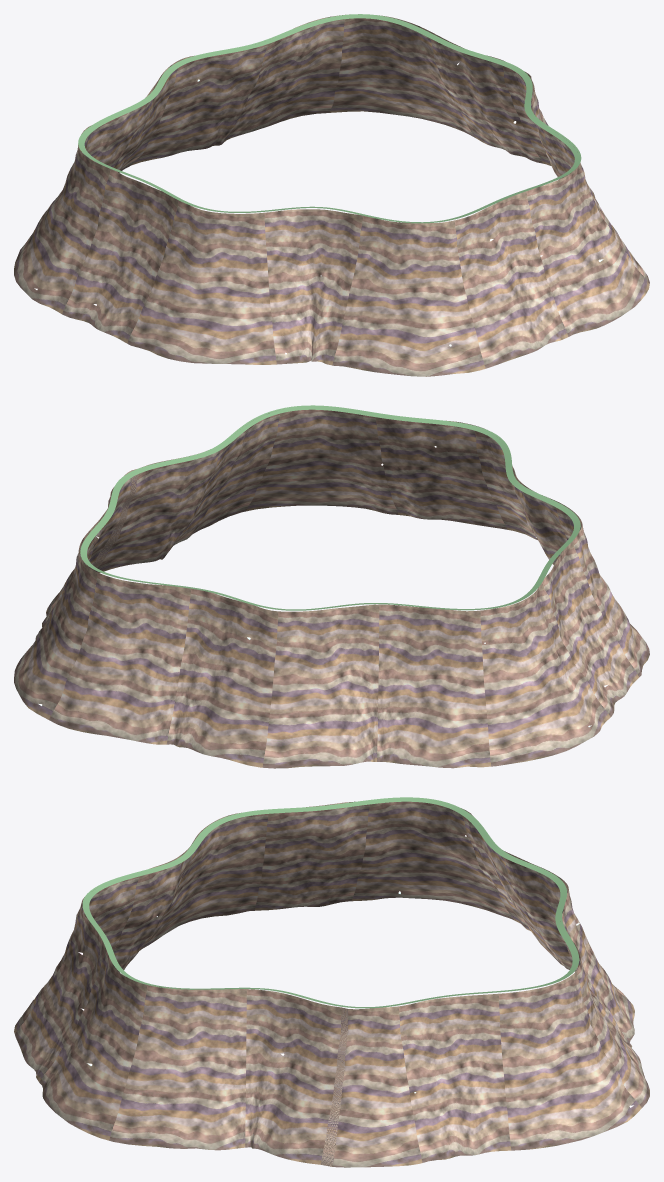
Rendered from CliffWall_plateau_northeast.glb.
3 views of the same model, one above another, from view 1: azimuth 30°, elevation 25°; view 2: azimuth 150°, elevation 25°; view 3: azimuth 270°, elevation 25° (orthographic). The views are drawn at different scales.
Visible parts, largest first — view 1: CliffWall_plateau_northeast-rock0, CliffWall_plateau_northeast-lip0; view 2: CliffWall_plateau_northeast-rock0, CliffWall_plateau_northeast-lip0; view 3: CliffWall_plateau_northeast-rock0, CliffWall_plateau_northeast-lip0.
Part boxes in pixels (<box>): CliffWall_plateau_northeast-rock0: <box>14,14,649,376</box>; CliffWall_plateau_northeast-lip0: <box>78,14,581,223</box>; CliffWall_plateau_northeast-rock0: <box>14,409,649,768</box>; CliffWall_plateau_northeast-lip0: <box>80,405,580,610</box>; CliffWall_plateau_northeast-rock0: <box>14,801,649,1167</box>; CliffWall_plateau_northeast-lip0: <box>82,797,579,1008</box>.
Size of the model in its own units: 550 by 124 by 548.
Materials: 4 (1 with a texture image).
